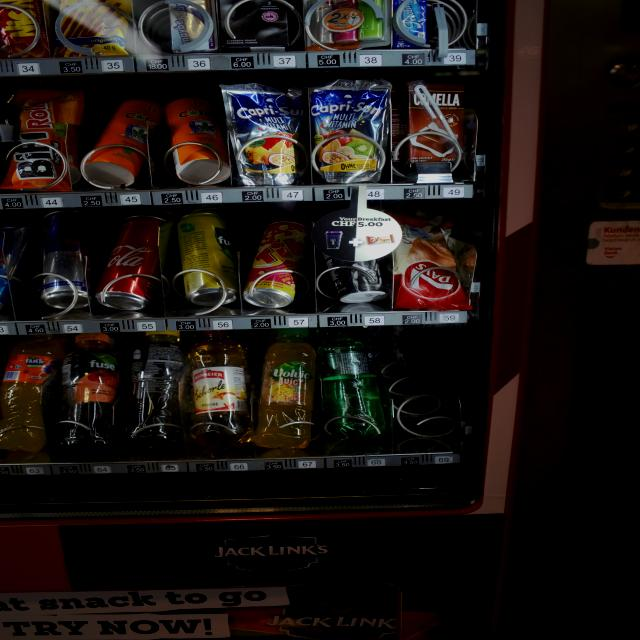7days_croissantschoko_packung_80_1_0000000000003: (393, 210, 471, 310)
bifi_roll__50__4251097402635: (2, 88, 85, 191)
c-swiss_dosenabisicetea__33__9120025930135: (160, 96, 243, 192), (85, 96, 162, 193)
caprisun_multivitamin__20__4000177605004: (213, 78, 321, 192), (302, 76, 410, 186)
coke__flasche_50__54491472: (87, 213, 165, 313)
comella_schokodrink__33__7613100037253: (398, 72, 474, 184)
fanta___50__40822938: (0, 327, 72, 456)
fuse_lemon__50__5449000235947: (128, 329, 192, 449)
fuse_lemon_dose_33__5449000235947: (177, 211, 244, 305)
fuse_peach__50__5449000236623: (53, 332, 134, 455)
ramseier_schorle__50__7610057012456: (186, 332, 264, 466)
redbull___33__90162909: (32, 208, 108, 308)
tiki_himbeerbrause_dose_33_1_: (247, 219, 310, 308)
valser_classic__50__76404160: (314, 328, 393, 440)
volvic_pinapple__50__305764335648: (251, 331, 316, 464)
